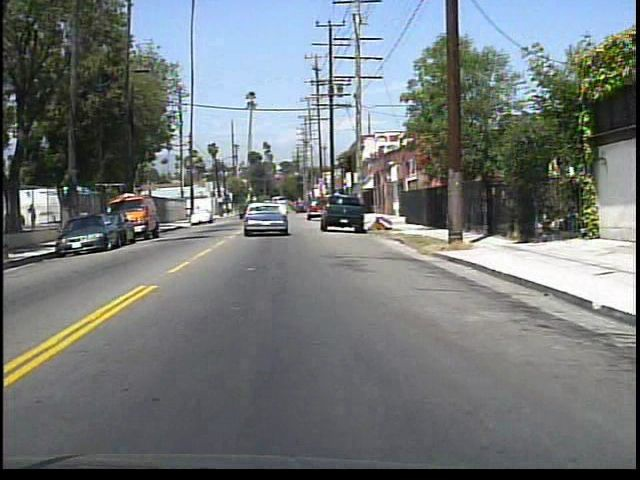person: (27, 202, 41, 231)
